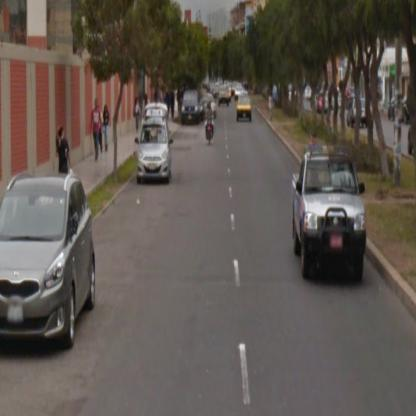Moto: (206, 106, 215, 147)
Peaton: (90, 98, 104, 163), (104, 105, 110, 149)
Pista: (94, 108, 300, 235), (324, 110, 409, 155)
Vehiculo: (2, 173, 97, 352), (292, 147, 367, 287), (137, 113, 173, 190), (347, 99, 371, 130), (182, 92, 199, 125), (238, 94, 252, 124), (219, 91, 230, 108)
